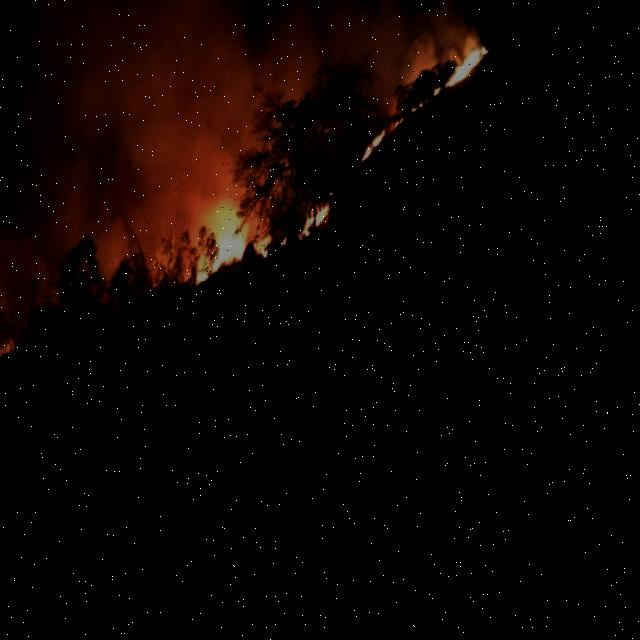Fire: (357, 42, 495, 180), (200, 198, 340, 296), (0, 328, 28, 373)
